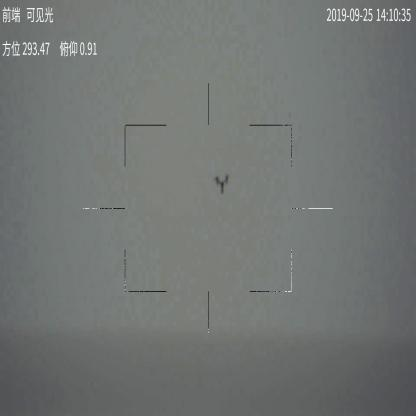uav: (214, 170, 231, 196)
